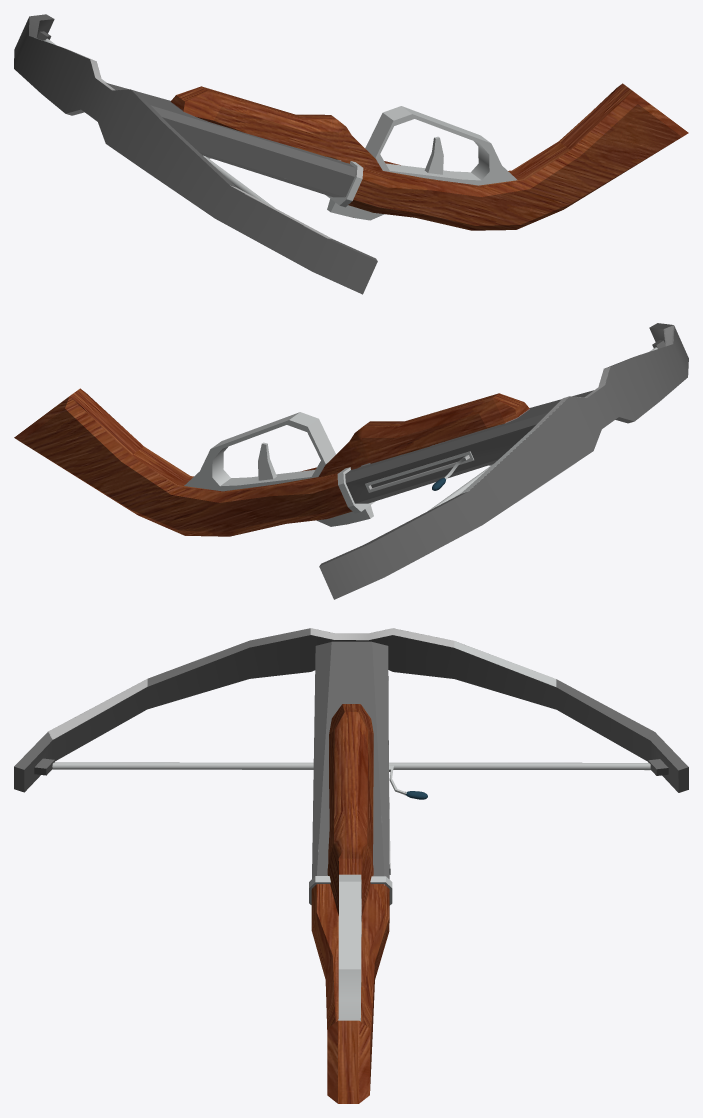
File: crossbow.fbx
The picture shows the model from 3 angles, top to bottom: view 1: azimuth 30°, elevation 25°; view 2: azimuth 150°, elevation 25°; view 3: azimuth 270°, elevation 25°; orthographic projection.
Visible parts, largest first — view 1: Crossbow; view 2: Crossbow; view 3: Crossbow.
Boxes of the visible parts, box(x1,y1,x2,y2) form: Crossbow: box(14, 14, 688, 294); Crossbow: box(14, 323, 688, 599); Crossbow: box(14, 628, 688, 1103).
Bounding box in the file's own units: 147 × 58.31 × 143.
Materials: 1 (1 with a texture image).
